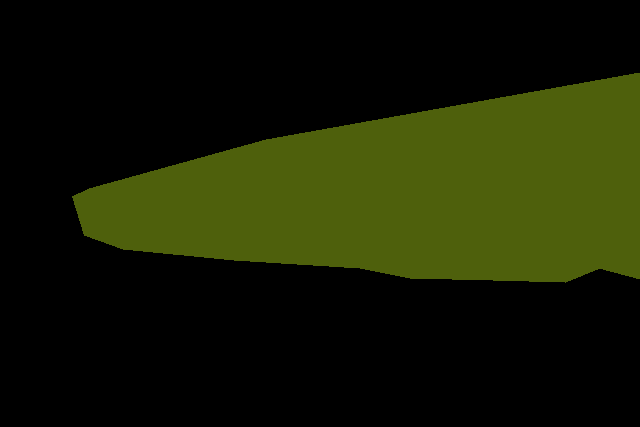Train: (72, 72, 640, 282)
